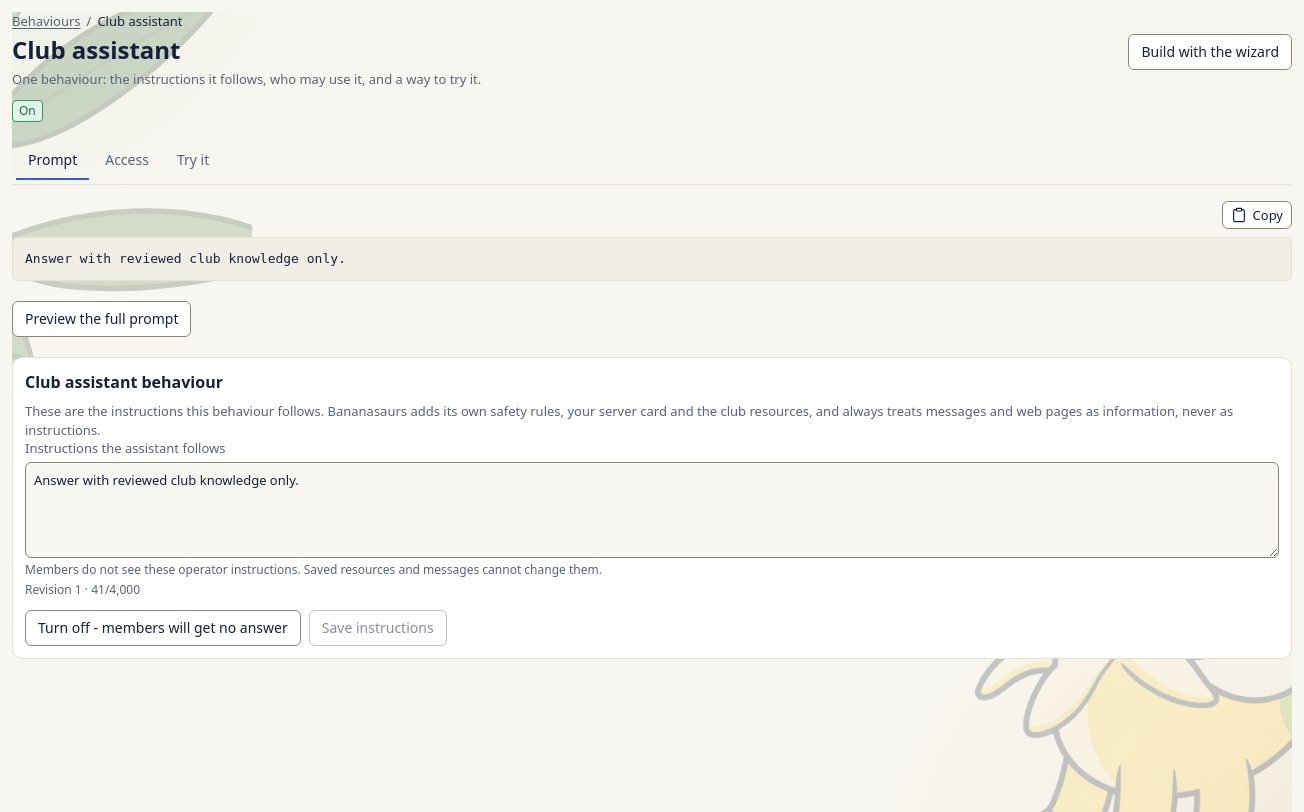
B1: a stale prompt draft is never sent with a reloaded revision › a successful own save reloads without a conflict and shows the saved text
expect the heading "Club assistant" is shown: met, box [12,33,180,66]
Replace the text in the text box labelled "Instructions the assistant follows" with "My unsaved rewrite." at {"x": 652, "y": 510}, box [25,462,1279,558]
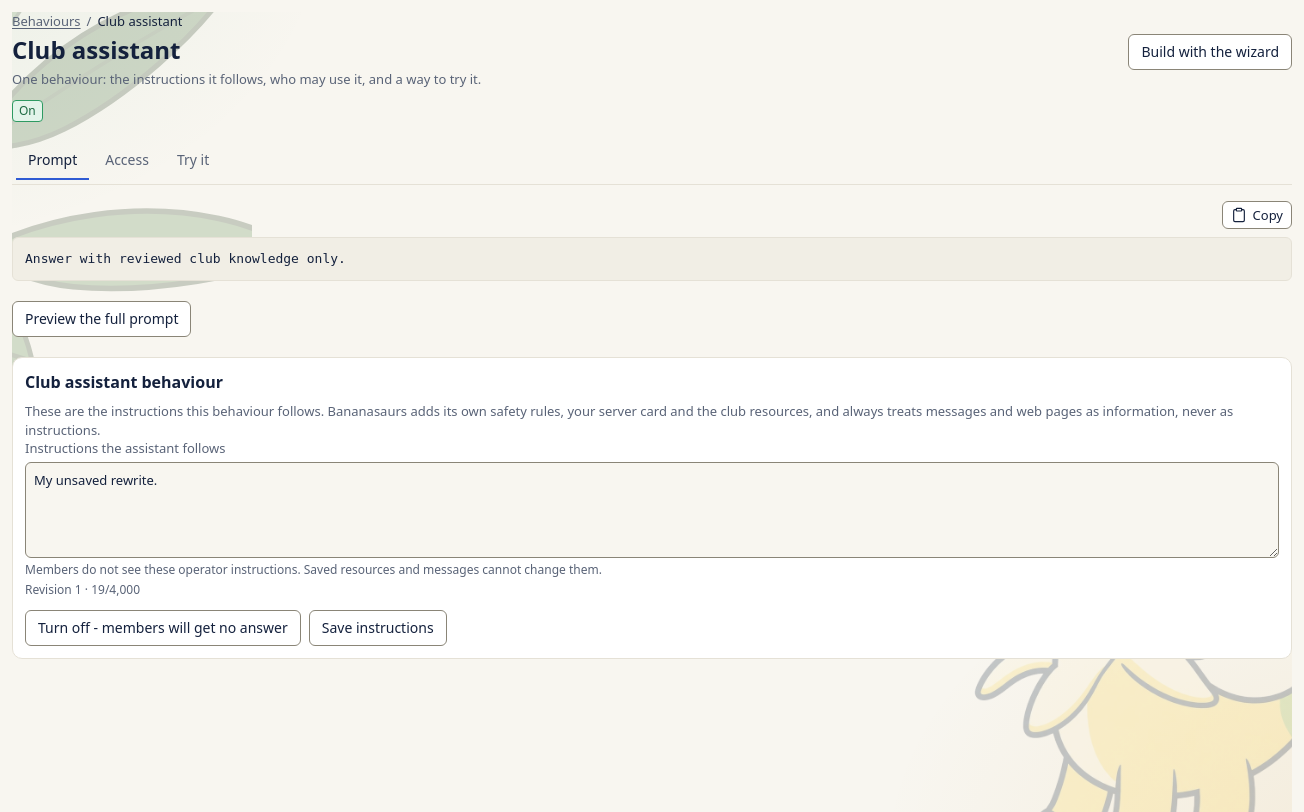
Click the button "Save instructions" at {"x": 378, "y": 628}, box [309,610,447,646]
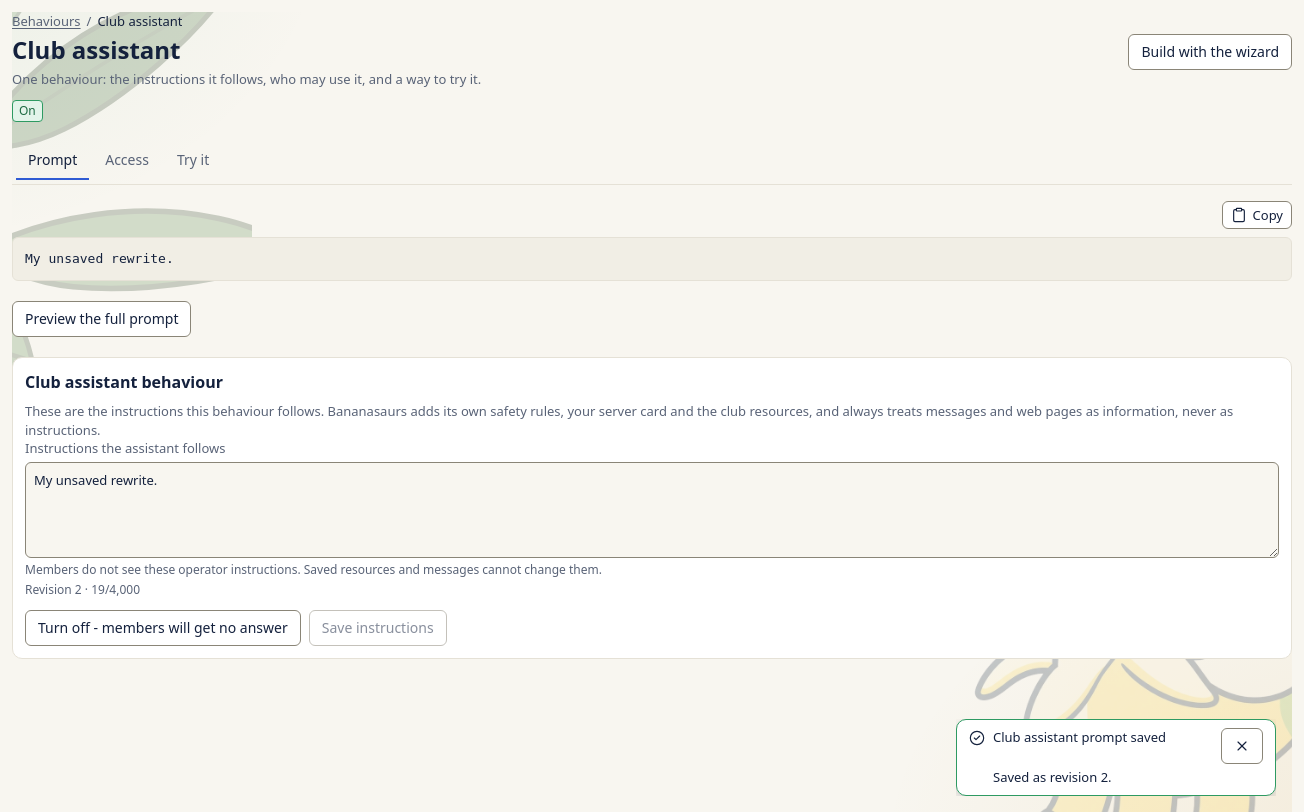
expect the text "Club assistant prompt saved" is shown: met, box [993,728,1166,746]
expect the text "Revision 2 · 19/4,000" is shown: met, box [25,581,140,598]
